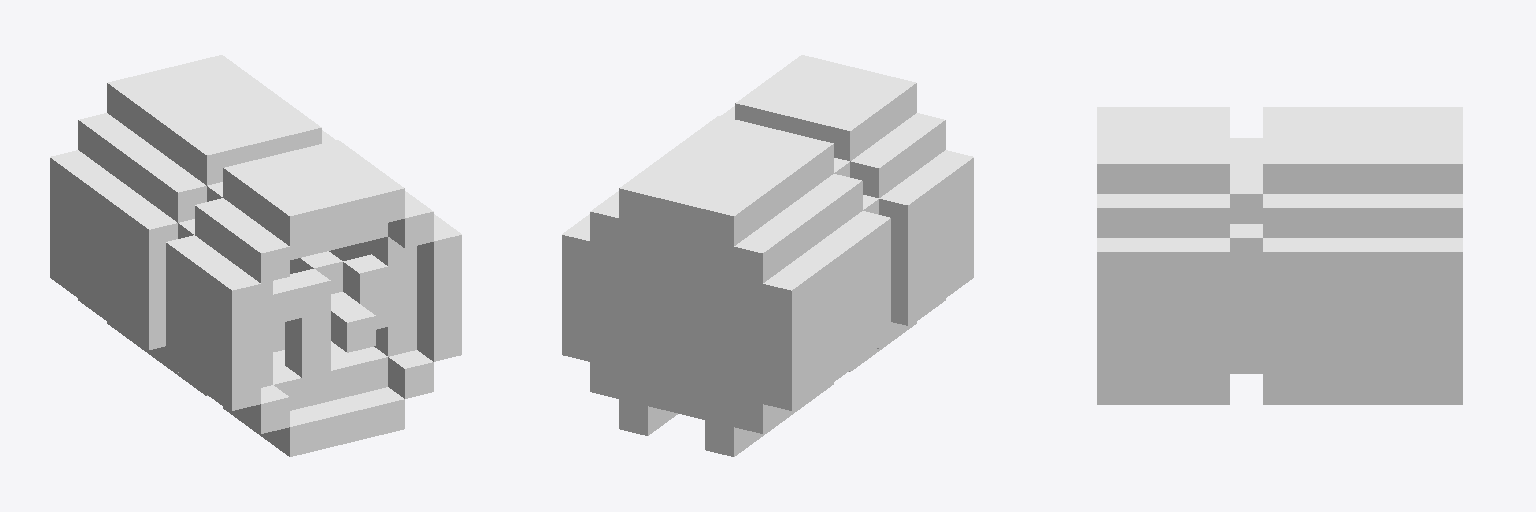
Rendered from Extra-1-Transtellar_Turbine_L.obj.
3 views of the same model, side by side, from view 1: azimuth 30°, elevation 25°; view 2: azimuth 150°, elevation 25°; view 3: azimuth 270°, elevation 25° (orthographic).
Parts seen in each view (by area): view 1: Transtellar_Turbine_L; view 2: Transtellar_Turbine_L; view 3: Transtellar_Turbine_L.
Part boxes in pixels (left/top/right/bottom): Transtellar_Turbine_L: left=50, top=55, right=461, bottom=456; Transtellar_Turbine_L: left=562, top=55, right=973, bottom=456; Transtellar_Turbine_L: left=1097, top=107, right=1462, bottom=404.
Size of the model in its own units: 0.8 by 0.8 by 1.1.